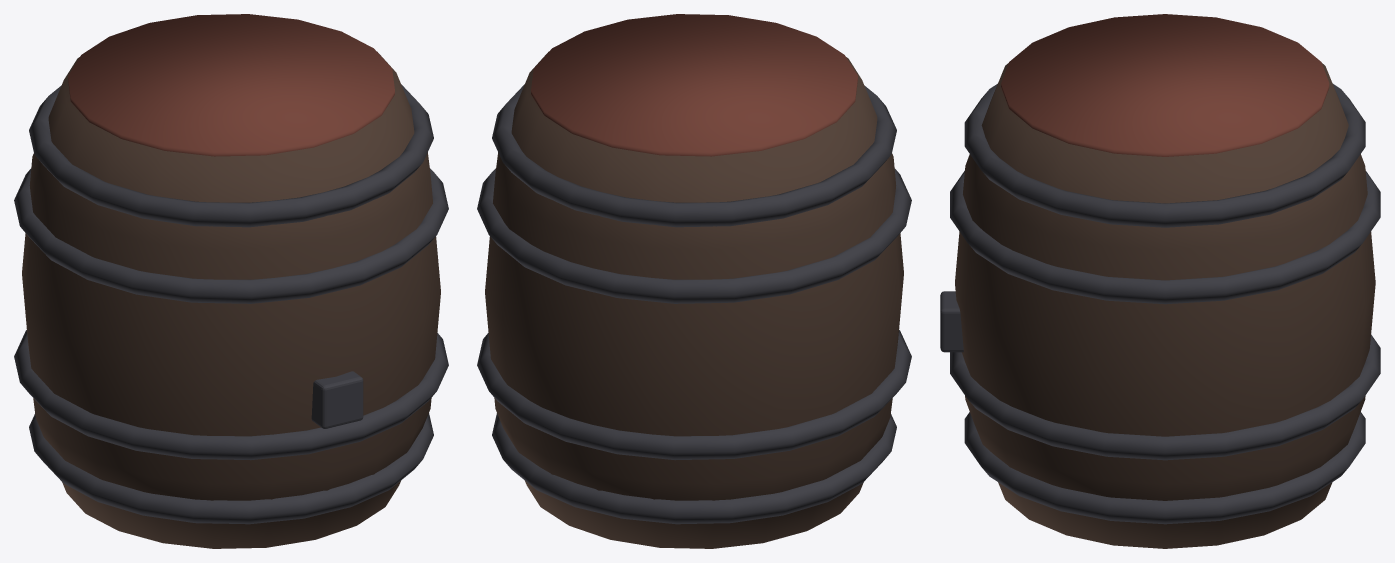
The model's file is barrel_small_keg.glb.
3 renders of one model, left to right at view 1: azimuth 30°, elevation 25°; view 2: azimuth 150°, elevation 25°; view 3: azimuth 270°, elevation 25°, orthographic.
Visible parts, largest first — view 1: GD_barrel_small_keg__m0, GD_barrel_small_keg__m1, GD_barrel_small_keg__m2; view 2: GD_barrel_small_keg__m0, GD_barrel_small_keg__m1, GD_barrel_small_keg__m2; view 3: GD_barrel_small_keg__m0, GD_barrel_small_keg__m1, GD_barrel_small_keg__m2.
Part boxes in pixels (box(x1,y1,x2,y2)): GD_barrel_small_keg__m0: box(22, 51, 440, 548); GD_barrel_small_keg__m1: box(14, 84, 448, 524); GD_barrel_small_keg__m2: box(68, 14, 394, 156); GD_barrel_small_keg__m0: box(485, 51, 903, 548); GD_barrel_small_keg__m1: box(477, 84, 911, 524); GD_barrel_small_keg__m2: box(531, 14, 857, 156); GD_barrel_small_keg__m0: box(955, 63, 1375, 548); GD_barrel_small_keg__m1: box(940, 84, 1380, 524); GD_barrel_small_keg__m2: box(1001, 14, 1329, 156).
Size of the model in its own units: 0.4546 by 0.455 by 0.46.
